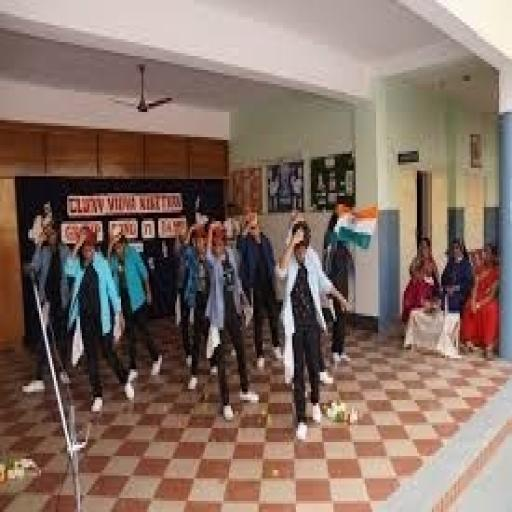dancing: (272, 215, 352, 445)
